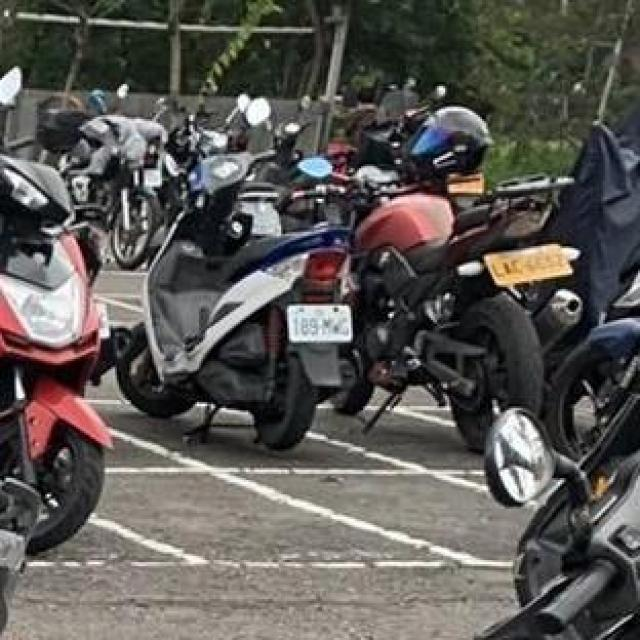W: (284, 301, 356, 346)
Y: (481, 242, 577, 290)
